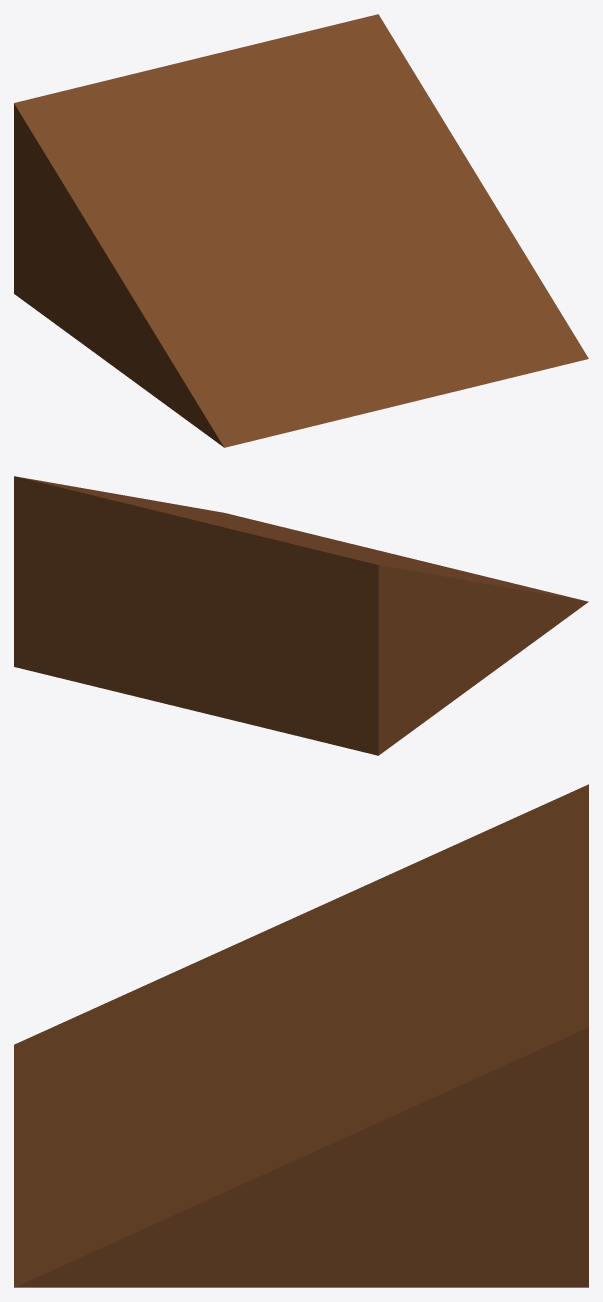
File: Stairs_1.fbx
3 views of the same model, one above another, from view 1: azimuth 30°, elevation 25°; view 2: azimuth 150°, elevation 25°; view 3: azimuth 270°, elevation 25° (orthographic). The views are drawn at different scales.
Parts seen in each view (by area): view 1: Cube.009; view 2: Cube.009; view 3: Cube.009.
Boxes of the visible parts, left/top/right/bottom form: Cube.009: left=14, top=14, right=588, bottom=447; Cube.009: left=14, top=476, right=588, bottom=755; Cube.009: left=14, top=784, right=588, bottom=1287.
Bounding box in the file's own units: 400 × 200 × 400.
